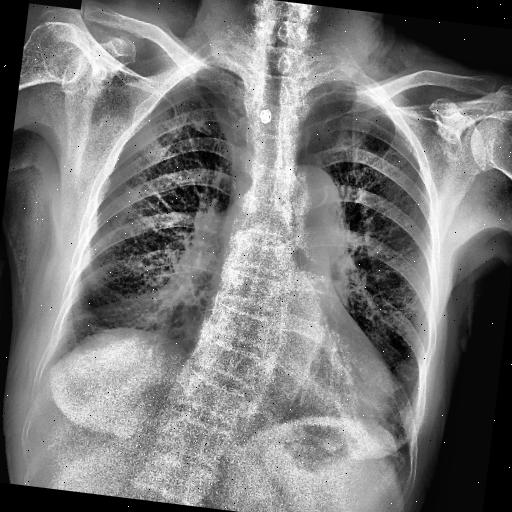0- Aortic enlargement: (266, 161, 359, 268), (261, 158, 349, 268), (280, 168, 348, 259)
11- Pleural thickening: (312, 76, 366, 97)
3- Cardiomegaly: (192, 296, 402, 426), (178, 318, 401, 440), (183, 304, 402, 420)
7- Lung Opacity: (55, 284, 177, 367)
9- Other lesion: (158, 171, 306, 460)
